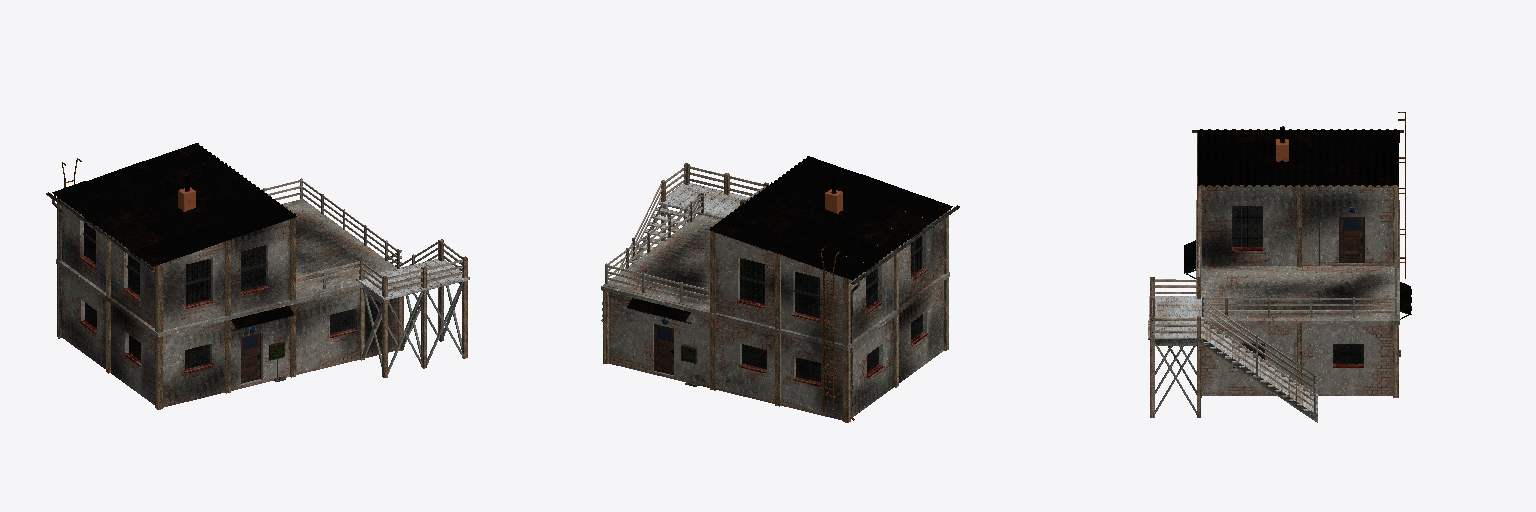
The picture shows the model from 3 angles: view 1: azimuth 30°, elevation 25°; view 2: azimuth 150°, elevation 25°; view 3: azimuth 270°, elevation 25°; orthographic projection.
Visible parts, largest first — view 1: schody.001_shodiste.000; view 2: schody.001_shodiste.000; view 3: schody.001_shodiste.000.
Boxes of the visible parts, <box> form: schody.001_shodiste.000: <box>46,143,469,409</box>; schody.001_shodiste.000: <box>601,156,959,422</box>; schody.001_shodiste.000: <box>1148,112,1411,422</box>.
Size of the model in its own units: 16.07 by 9.9 by 12.33.
Materials: 4 (4 with a texture image).